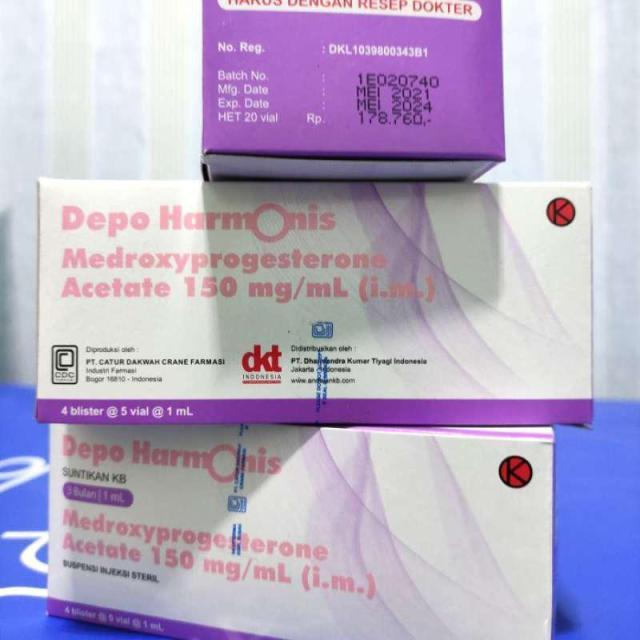drug-name: (49, 204, 342, 242)
